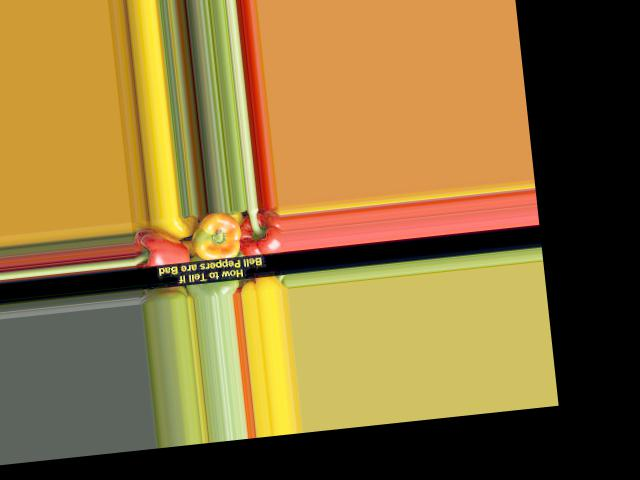bell_pepper: (233, 206, 282, 259)
